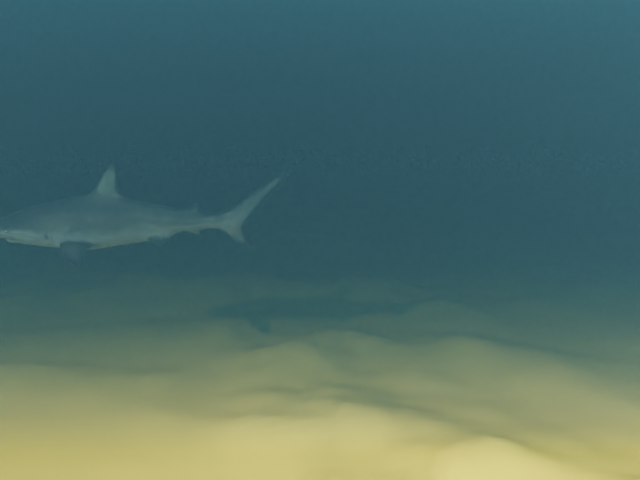Carribean Shark.001: (0, 163, 290, 267)
